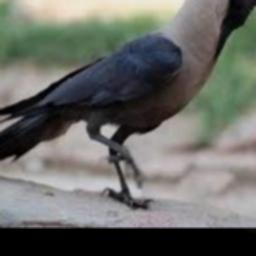Crow: (0, 0, 256, 210)
